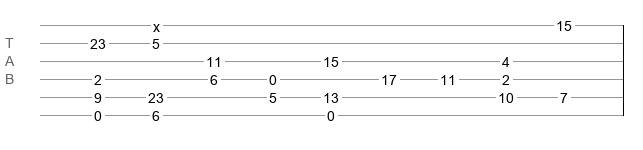0: (94, 108, 102, 118), (269, 72, 277, 82), (327, 108, 335, 118)
10: (498, 90, 514, 100)
11: (206, 54, 222, 64), (440, 72, 456, 82)
13: (323, 90, 339, 100)
15: (323, 54, 339, 64), (556, 18, 572, 28)
17: (381, 72, 397, 82)
2: (94, 72, 102, 82), (502, 72, 510, 82)
23: (90, 36, 106, 46), (148, 90, 164, 100)
4: (502, 54, 510, 64)
5: (152, 36, 160, 46), (269, 90, 277, 100)
6: (152, 108, 160, 118), (210, 72, 218, 82)
7: (560, 90, 568, 100)
9: (94, 90, 102, 100)
x: (153, 19, 160, 27)
